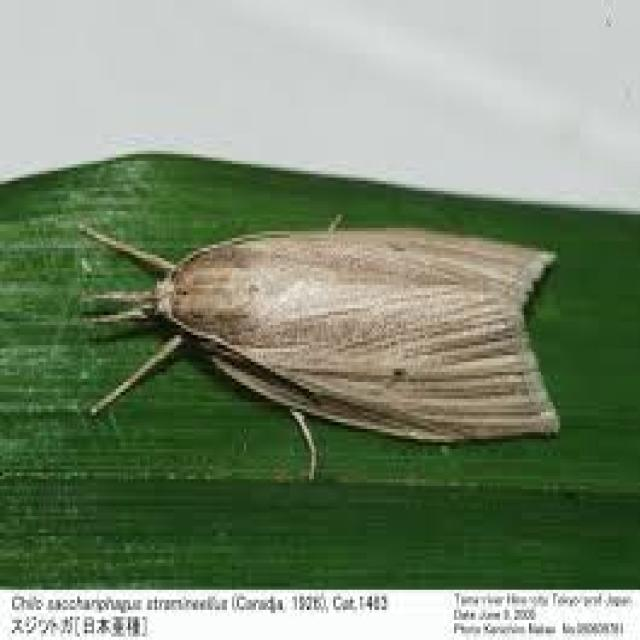yellow-stem-borer: (70, 181, 601, 497)
